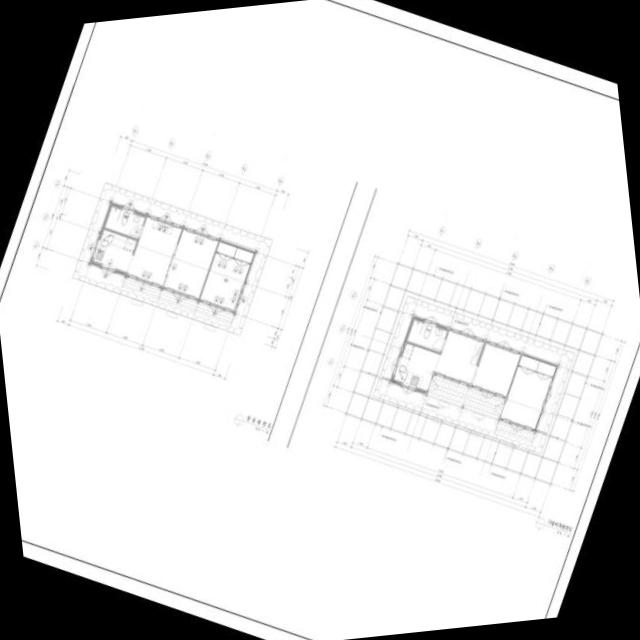background: (0, 0, 640, 640)
space_bedroom: (163, 228, 218, 300), (199, 240, 254, 312)
space_kitchen: (93, 229, 137, 272)
space_living_room: (126, 215, 182, 287)
space_toilet: (104, 206, 145, 239)
